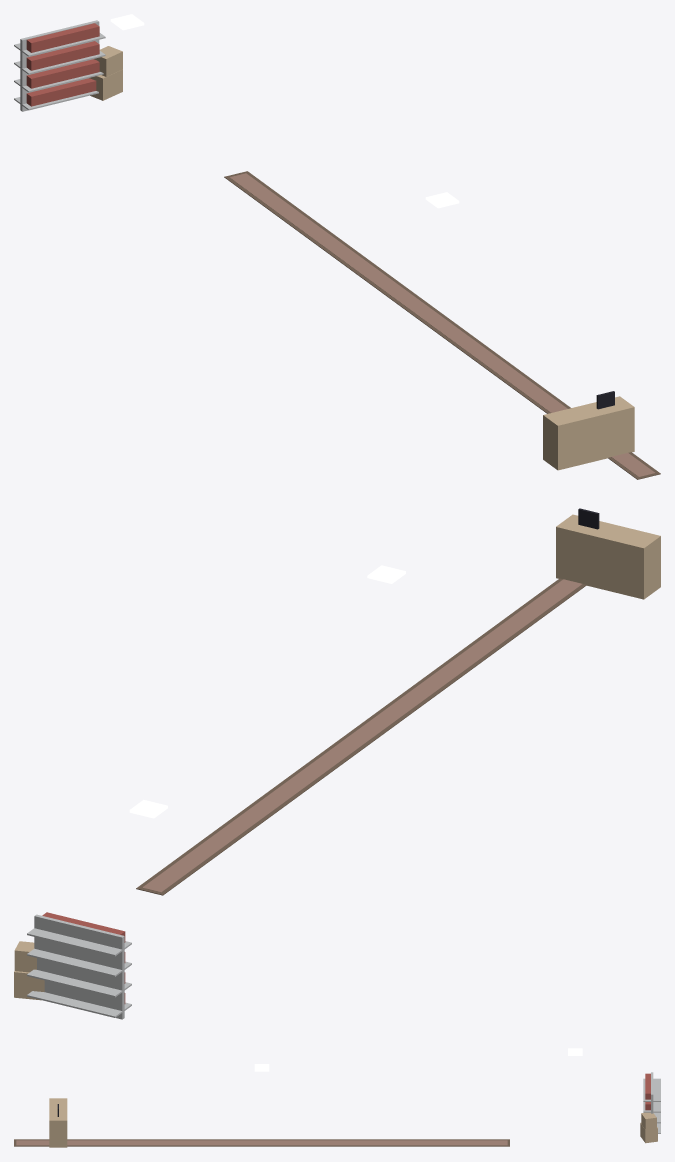
Rendered from fine-s0.glb.
The picture shows the model from 3 angles, top to bottom: view 1: azimuth 30°, elevation 25°; view 2: azimuth 150°, elevation 25°; view 3: azimuth 270°, elevation 25°; orthographic projection. The views are drawn at different scales.
Parts seen in each view (by area): view 1: soft-s0, shelving.000, shop-counter.000, cardboard-box.000; view 2: soft-s0, shelving.000, shop-counter.000, cardboard-box.000; view 3: soft-s0, shop-counter.000, shelving.000, cardboard-box.000.
Part boxes in pixels (x1,y1,x2,y2): soft-s0: [224, 171, 660, 479]; shelving.000: [14, 20, 105, 111]; shop-counter.000: [543, 391, 634, 470]; cardboard-box.000: [89, 46, 122, 100]; soft-s0: [136, 578, 586, 895]; shelving.000: [27, 912, 131, 1019]; shop-counter.000: [556, 508, 660, 599]; cardboard-box.000: [14, 941, 44, 1000]; soft-s0: [14, 1139, 509, 1146]; shop-counter.000: [49, 1098, 67, 1147]; shelving.000: [643, 1072, 660, 1133]; cardboard-box.000: [640, 1112, 657, 1143].
Bounding box in the file's own units: 2.6 × 2.83 × 21.89.
